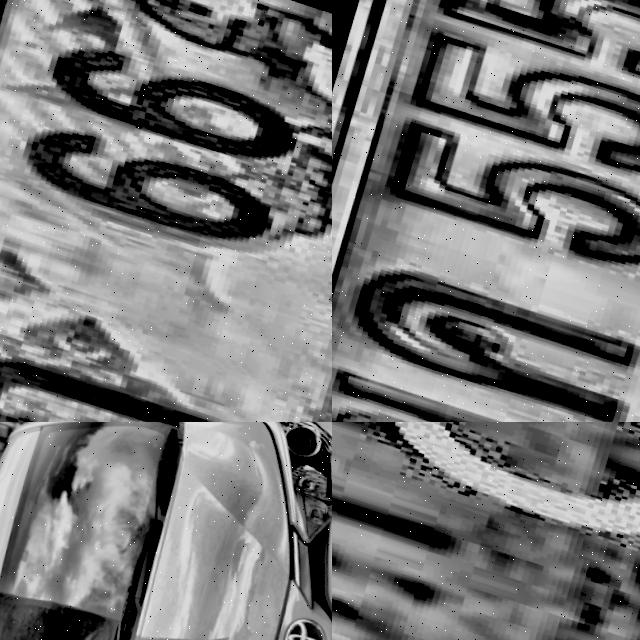license-plate: (0, 0, 332, 422), (332, 0, 640, 422), (332, 422, 640, 640)
